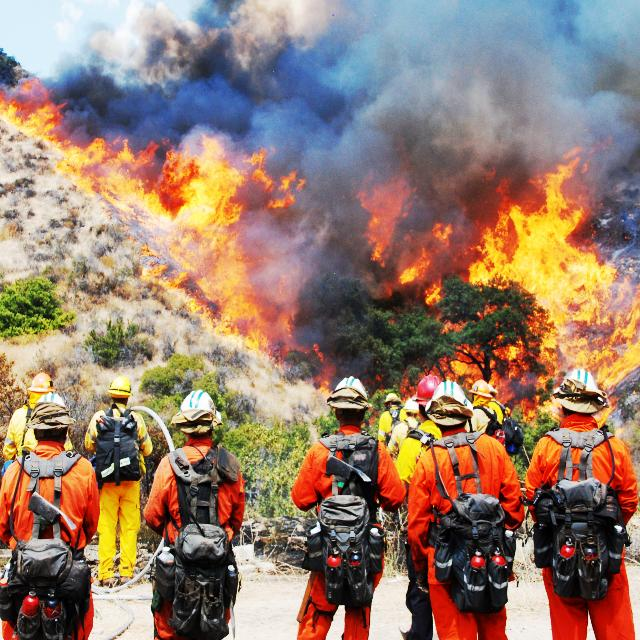api: (1, 77, 292, 361), (470, 140, 640, 416), (353, 165, 402, 274), (396, 222, 450, 307)
asap: (48, 1, 640, 258), (230, 200, 357, 318)
